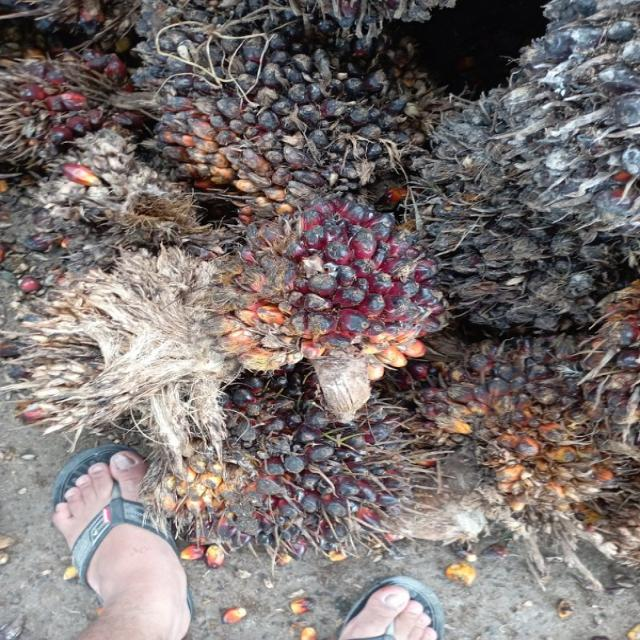fraksi 00: (396, 69, 637, 335), (128, 7, 439, 206), (154, 374, 408, 546)
fraksi 1: (244, 195, 445, 377)
